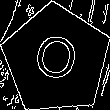O_S: (30, 30, 83, 89)
